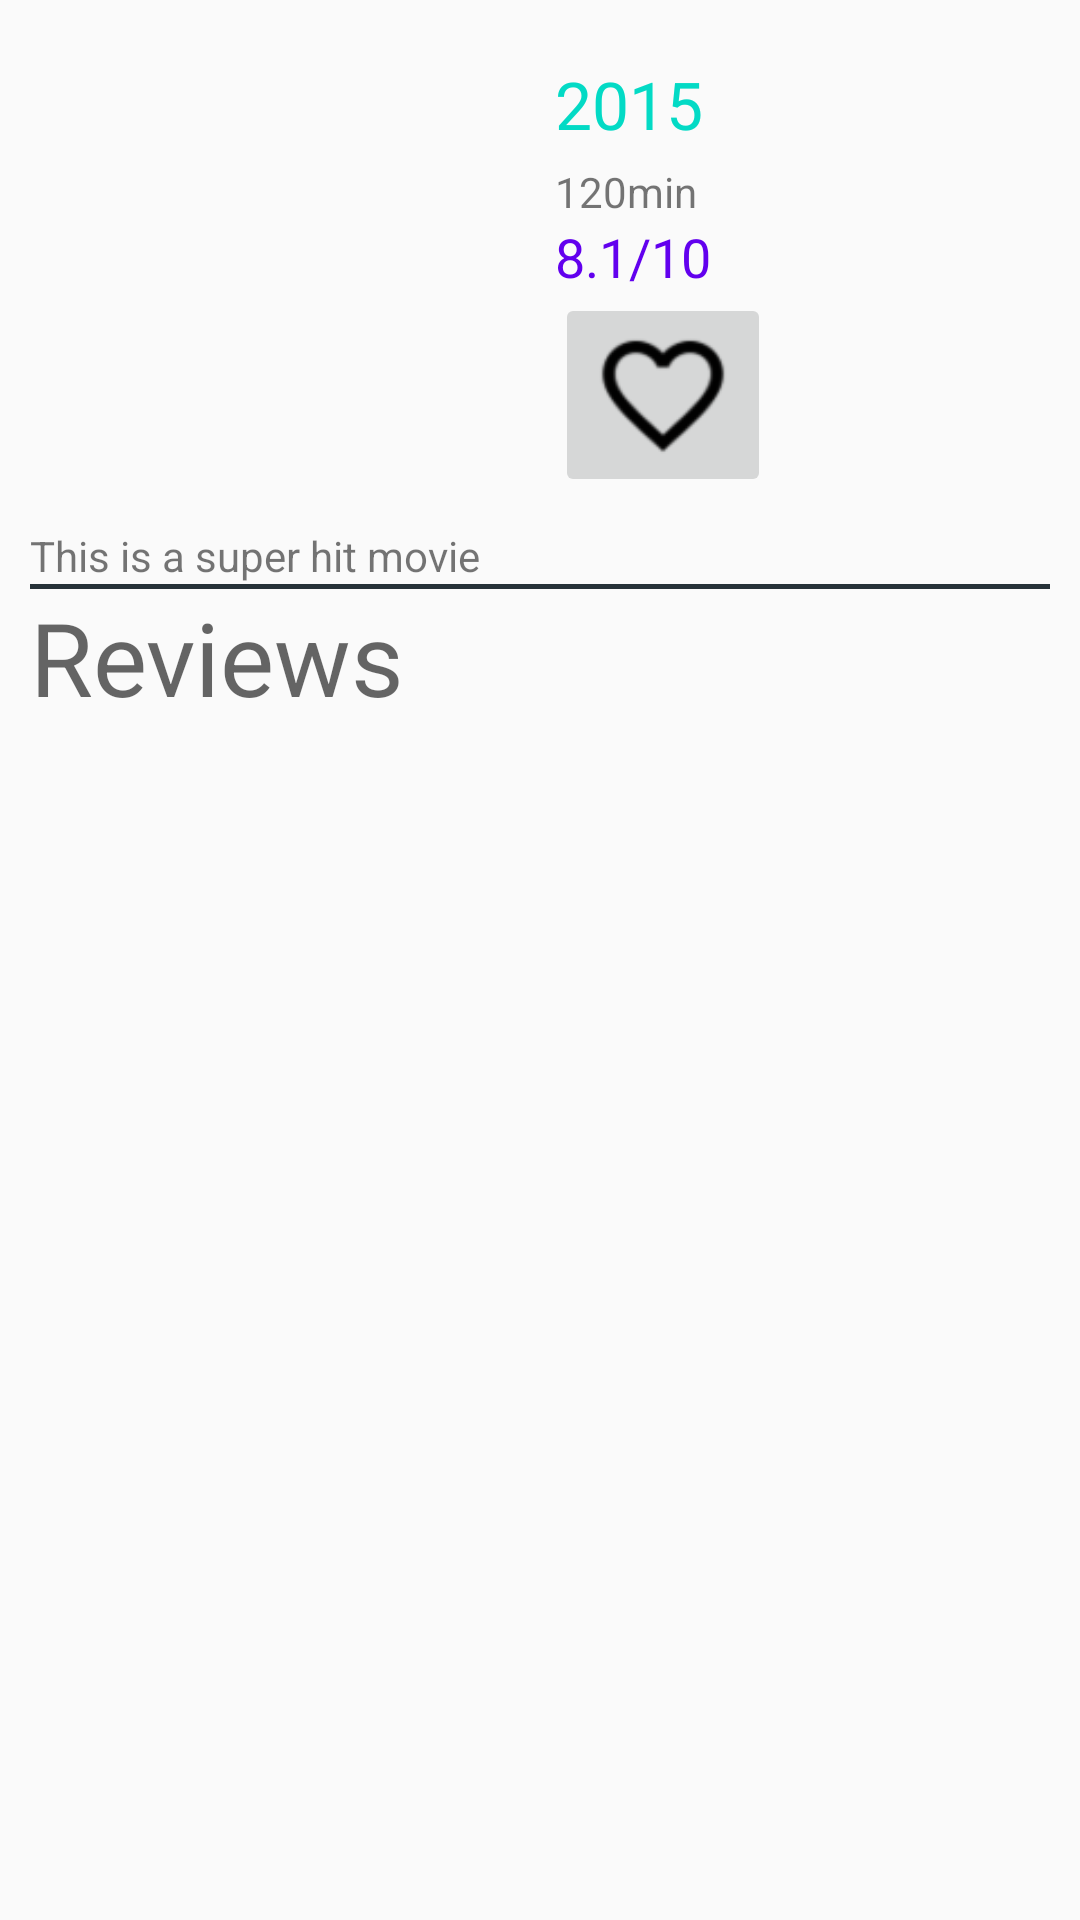

Icons on this 1080px×1920px Android screen, each with its box as (x1, y1, x2, y2):
favorite: (567, 311, 759, 479)
